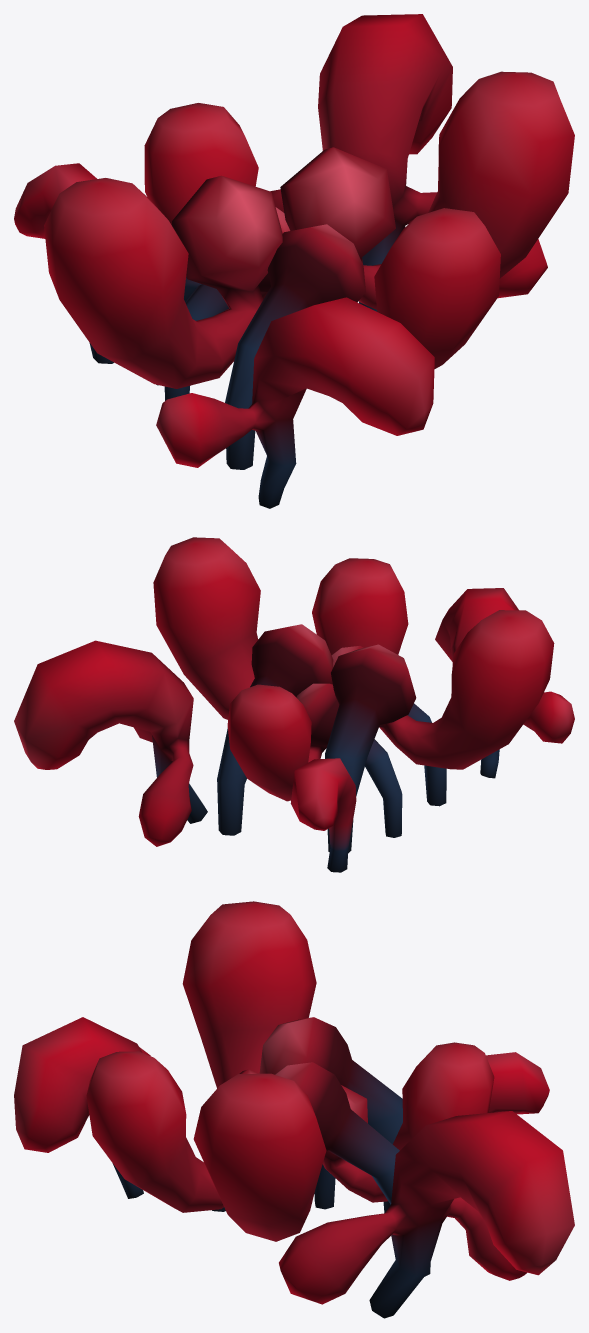
File: Alien_Bush01.fbx
The picture shows the model from 3 angles, top to bottom: view 1: azimuth 30°, elevation 25°; view 2: azimuth 150°, elevation 25°; view 3: azimuth 270°, elevation 25°; orthographic projection. The views are drawn at different scales.
Parts seen in each view (by area): view 1: Alien_Bush01; view 2: Alien_Bush01; view 3: Alien_Bush01.
Boxes of the visible parts, x1,y1,x2,y2 form: Alien_Bush01: [14, 14, 574, 508]; Alien_Bush01: [14, 537, 574, 872]; Alien_Bush01: [14, 901, 574, 1318].
Size of the model in its own units: 4732 by 2538 by 4870.
